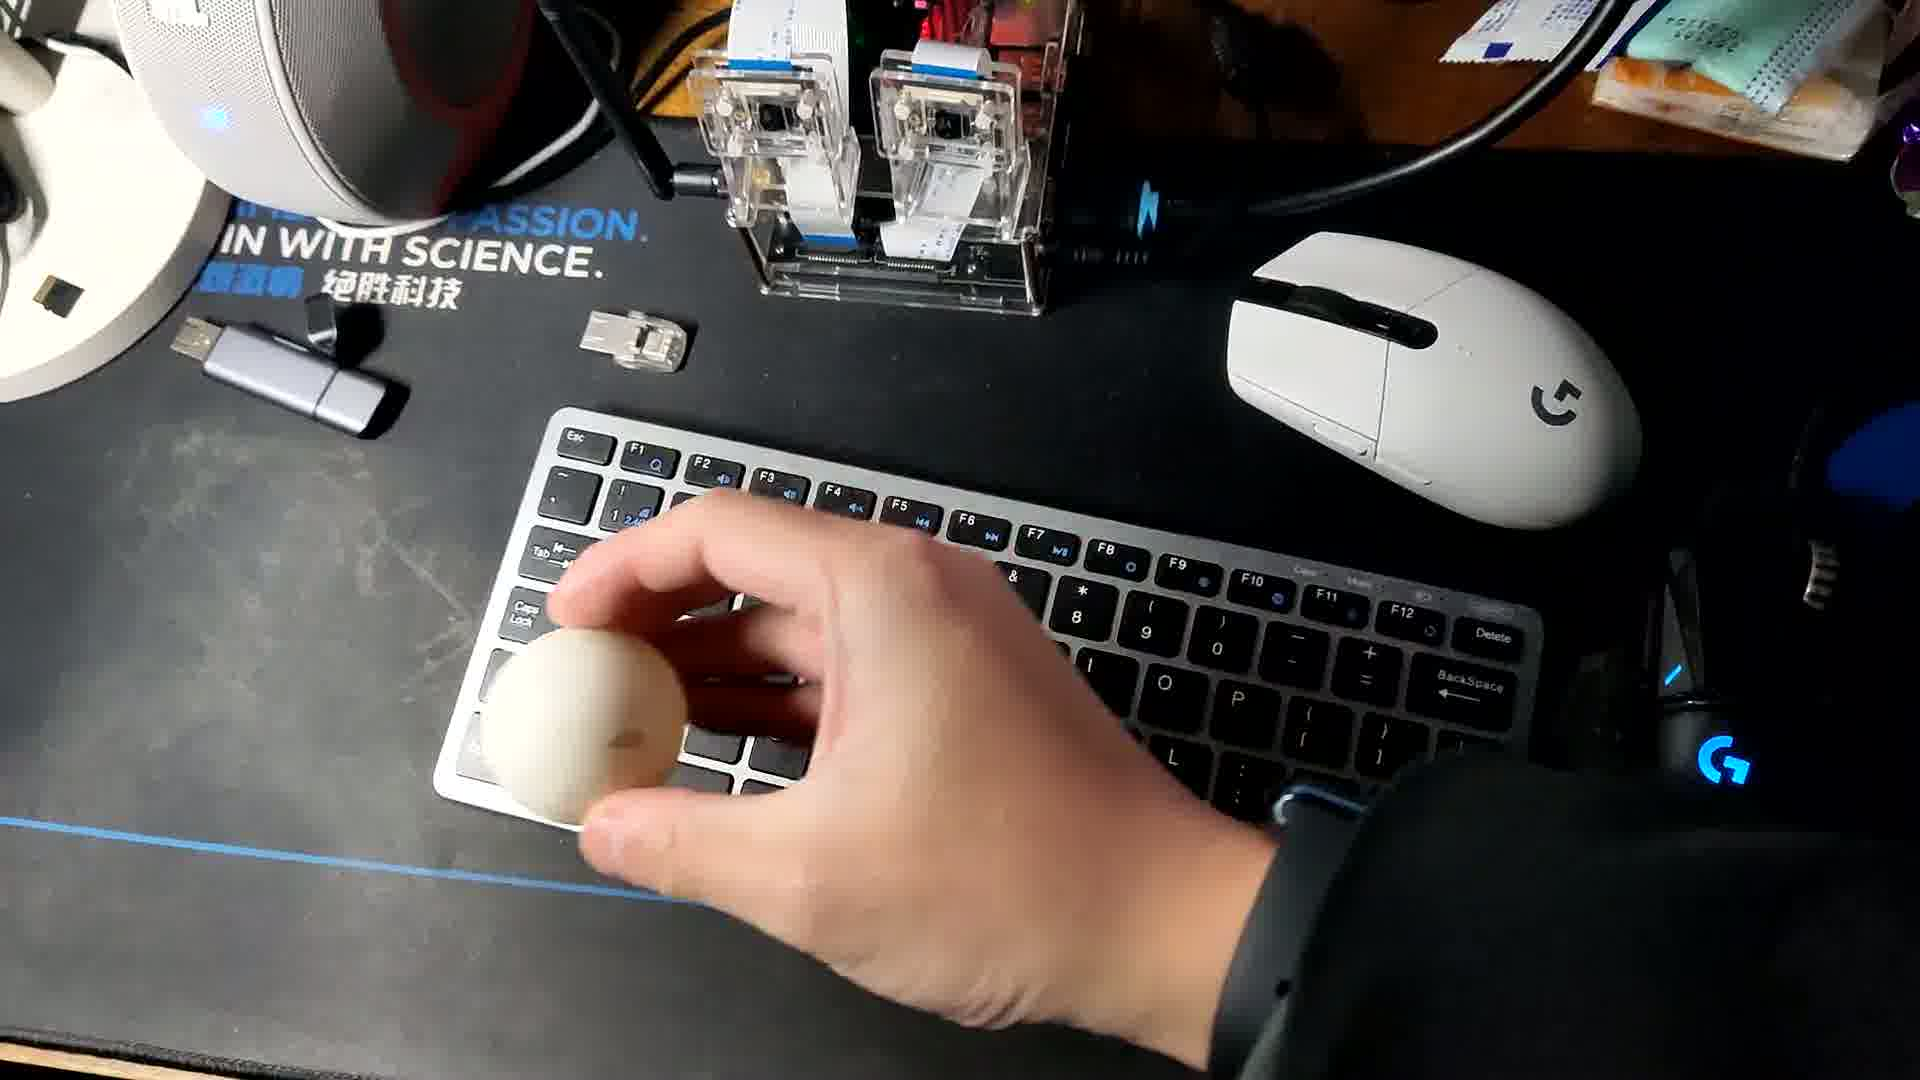Ball: (485, 629, 684, 820)
